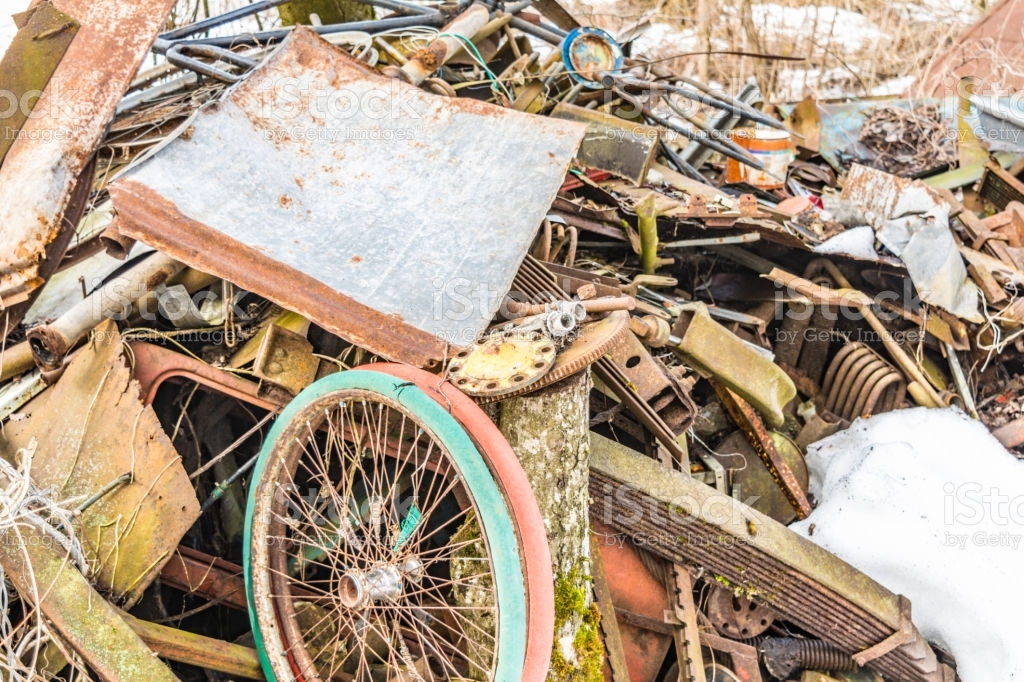metal: (103, 12, 613, 383), (221, 352, 586, 682), (587, 427, 956, 682), (2, 302, 207, 682), (1, 1, 194, 329), (451, 285, 724, 461), (545, 16, 815, 176), (831, 153, 1013, 334), (618, 297, 823, 438), (803, 323, 925, 426), (751, 613, 855, 682)
